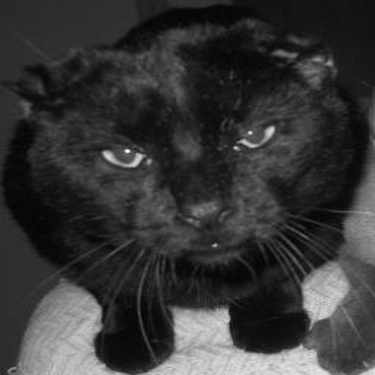cat: (4, 3, 368, 370)
